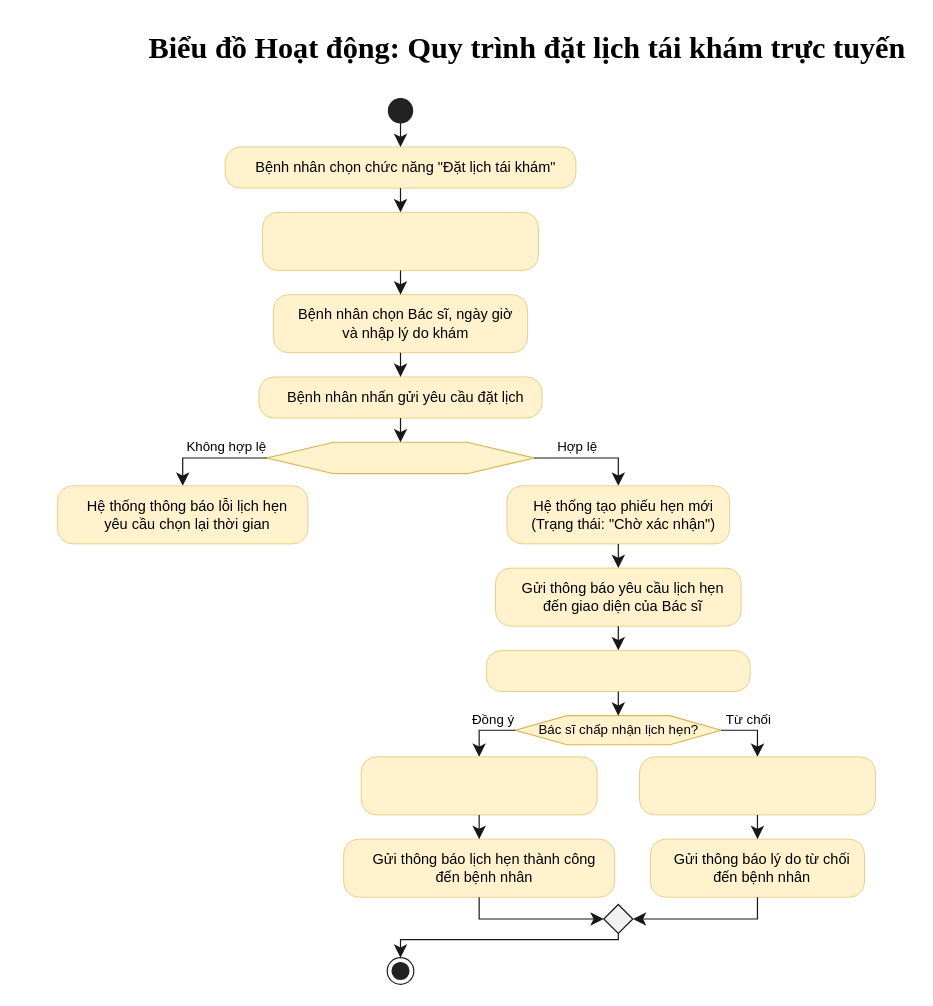
The diagram is 933 pixels wide and 1006 high, and some of its shapes have lost their labels. The shapes that lost their labels are listed below. From the top down, each one's box as (x1, y1, x2, y2) in pixels, then its label:
(262, 212, 538, 270): Hệ thống hiển thị danh sách Bác sĩ và các khung giờ trống
(266, 441, 534, 474): Khung giờ hợp lệ (Không trùng lặp, trước ít nhất 24h)?
(486, 650, 750, 691): Bác sĩ xem xét thông tin lịch hẹn
(360, 756, 597, 815): Cập nhật trạng thái phiếu hẹn thành "Đã xác nhận"
(639, 756, 875, 815): Cập nhật trạng thái phiếu hẹn thành "Đã hủy / Từ chối"
